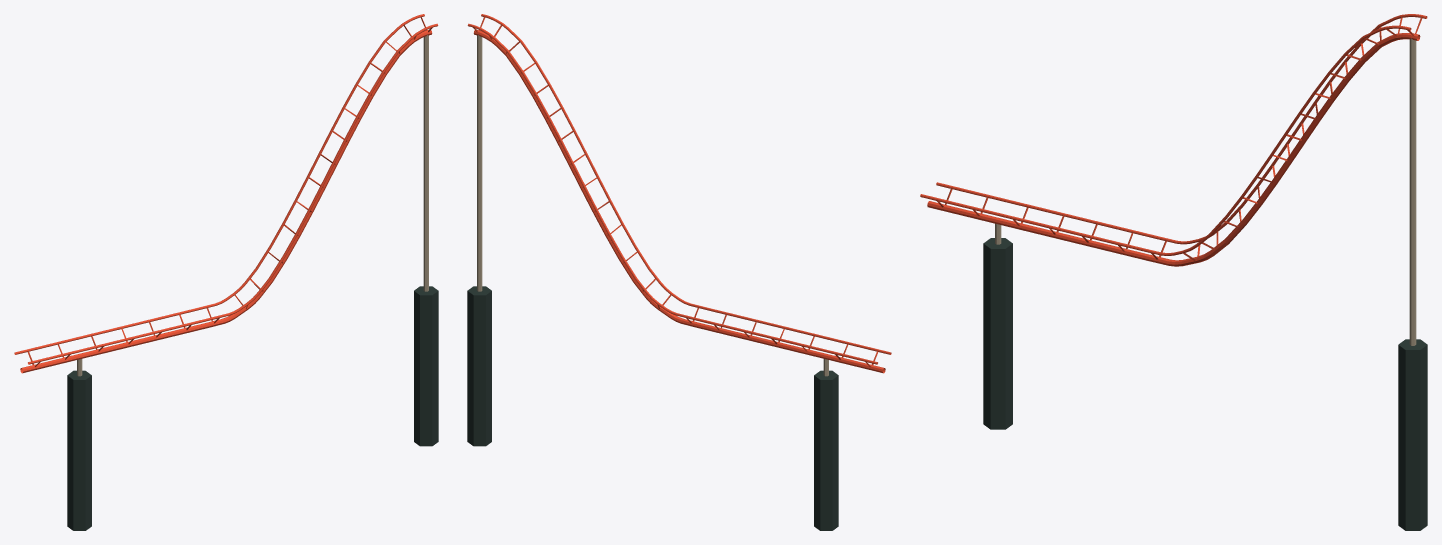
The model's file is RollerCoaster_B_Up.fbx.
3 renders of one model, left to right at view 1: azimuth 30°, elevation 25°; view 2: azimuth 150°, elevation 25°; view 3: azimuth 330°, elevation 25°, orthographic. The views are drawn at different scales.
Parts seen in each view (by area): view 1: RollerCoaster_B_Up; view 2: RollerCoaster_B_Up; view 3: RollerCoaster_B_Up.
Boxes of the visible parts, <box> form: RollerCoaster_B_Up: <box>14,14,438,530</box>; RollerCoaster_B_Up: <box>467,14,891,530</box>; RollerCoaster_B_Up: <box>920,14,1427,530</box>.
Bounding box in the file's own units: 716 × 698 × 44.08.
